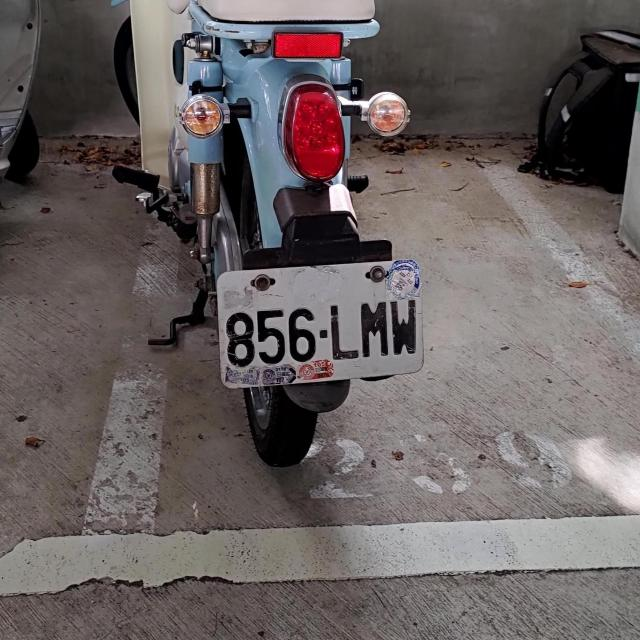W: (216, 260, 426, 388)
